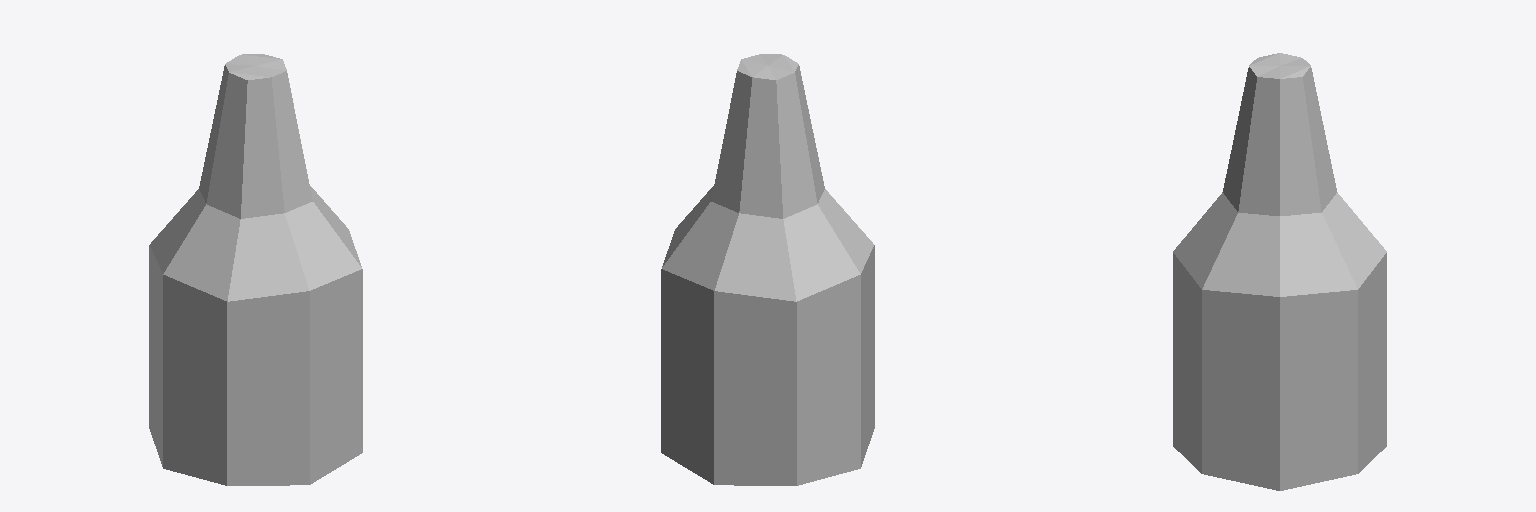
Rendered from rum.obj.
3 renders of one model, left to right at view 1: azimuth 30°, elevation 25°; view 2: azimuth 150°, elevation 25°; view 3: azimuth 270°, elevation 25°, orthographic.
Parts seen in each view (by area): view 1: Cube_Cube.001; view 2: Cube_Cube.001; view 3: Cube_Cube.001.
Boxes of the visible parts, box(x1,y1,x2,y2) form: Cube_Cube.001: box(149, 54, 362, 485); Cube_Cube.001: box(661, 54, 874, 485); Cube_Cube.001: box(1173, 53, 1386, 490).
Bounding box in the file's own units: 2 × 3.91 × 2.